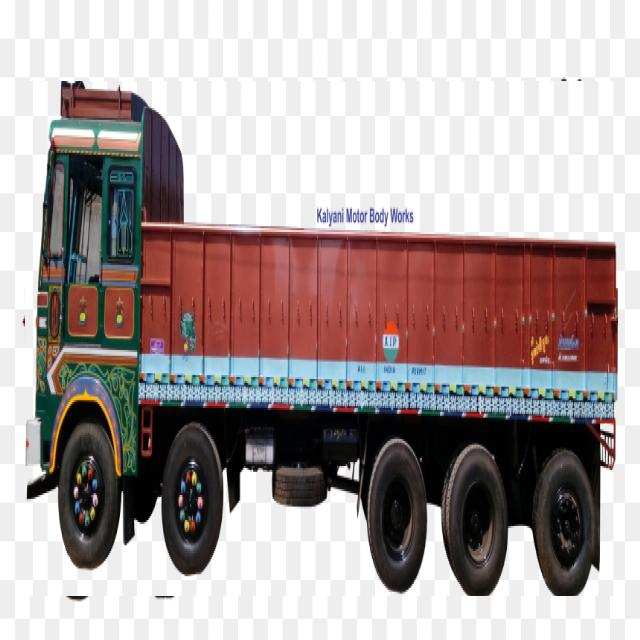truck: (25, 81, 618, 596)
